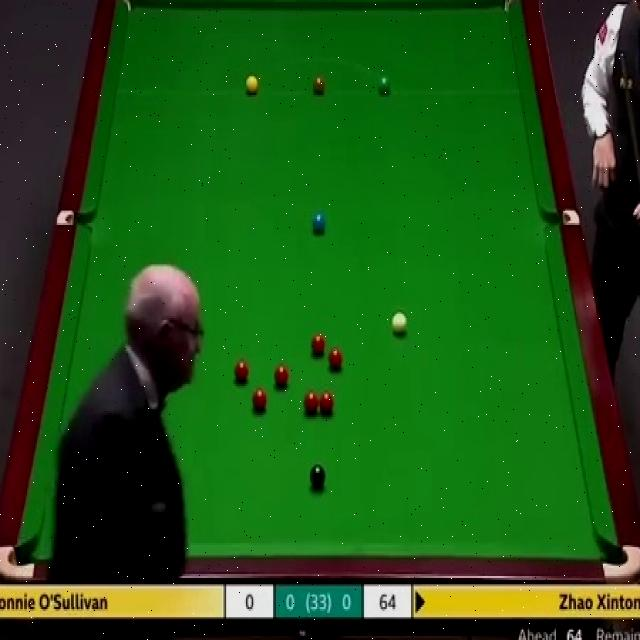black-ball: (310, 463, 326, 493)
blue-ball: (312, 214, 327, 236)
brown-ball: (312, 74, 325, 95)
green-ball: (378, 75, 391, 95)
red-ball: (233, 358, 250, 386), (274, 363, 291, 389), (311, 334, 328, 359), (328, 346, 344, 371), (303, 392, 319, 416), (252, 387, 268, 410), (319, 392, 334, 416)
white-ball: (392, 312, 407, 336)
yellow-ball: (246, 73, 260, 94)
